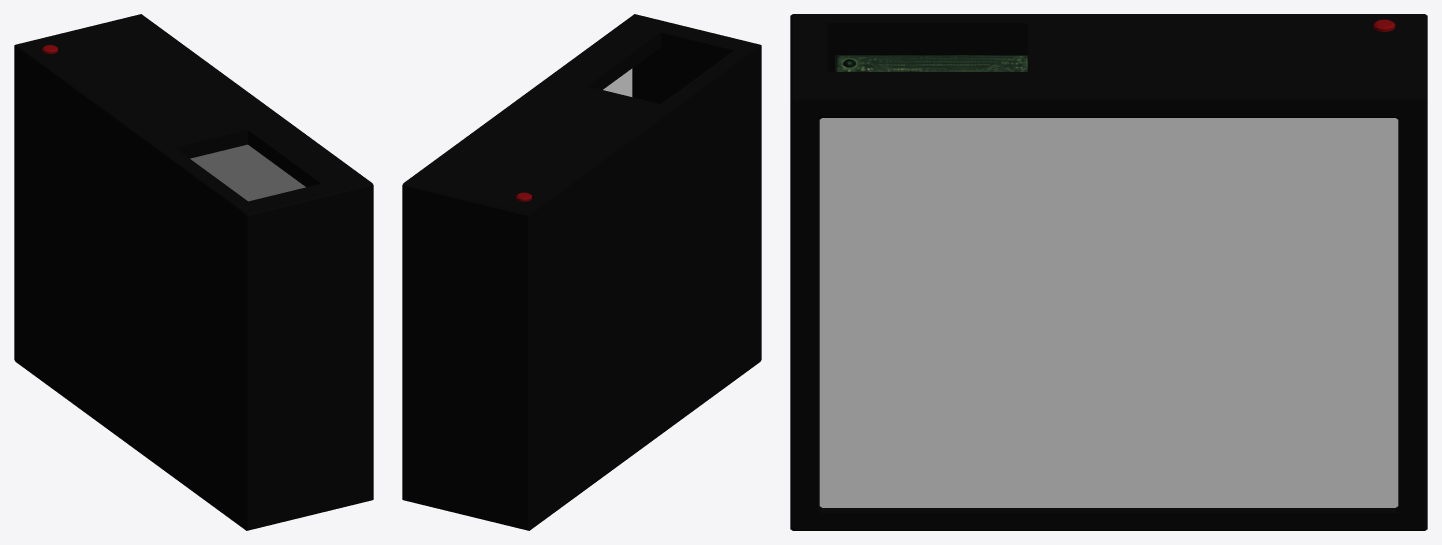
The model's file is COMPUTER_CABINET.glb.
The picture shows the model from 3 angles, left to right: view 1: azimuth 30°, elevation 25°; view 2: azimuth 150°, elevation 25°; view 3: azimuth 270°, elevation 25°; orthographic projection. The views are drawn at different scales.
Parts seen in each view (by area): view 1: COMPUTER_CABINET, GLASS; view 2: COMPUTER_CABINET, GLASS; view 3: GLASS, COMPUTER_CABINET, MOTHERBOARD.
Boxes of the visible parts, left/top/right/bottom form: COMPUTER_CABINET: left=14, top=14, right=373, bottom=530; GLASS: left=190, top=144, right=305, bottom=201; COMPUTER_CABINET: left=402, top=14, right=761, bottom=530; GLASS: left=603, top=68, right=632, bottom=96; GLASS: left=819, top=118, right=1398, bottom=507; COMPUTER_CABINET: left=790, top=14, right=1427, bottom=530; MOTHERBOARD: left=835, top=55, right=1027, bottom=71.
Size of the model in its own units: 0.1901 by 0.4573 by 0.604.
15 materials, 2 textured.
